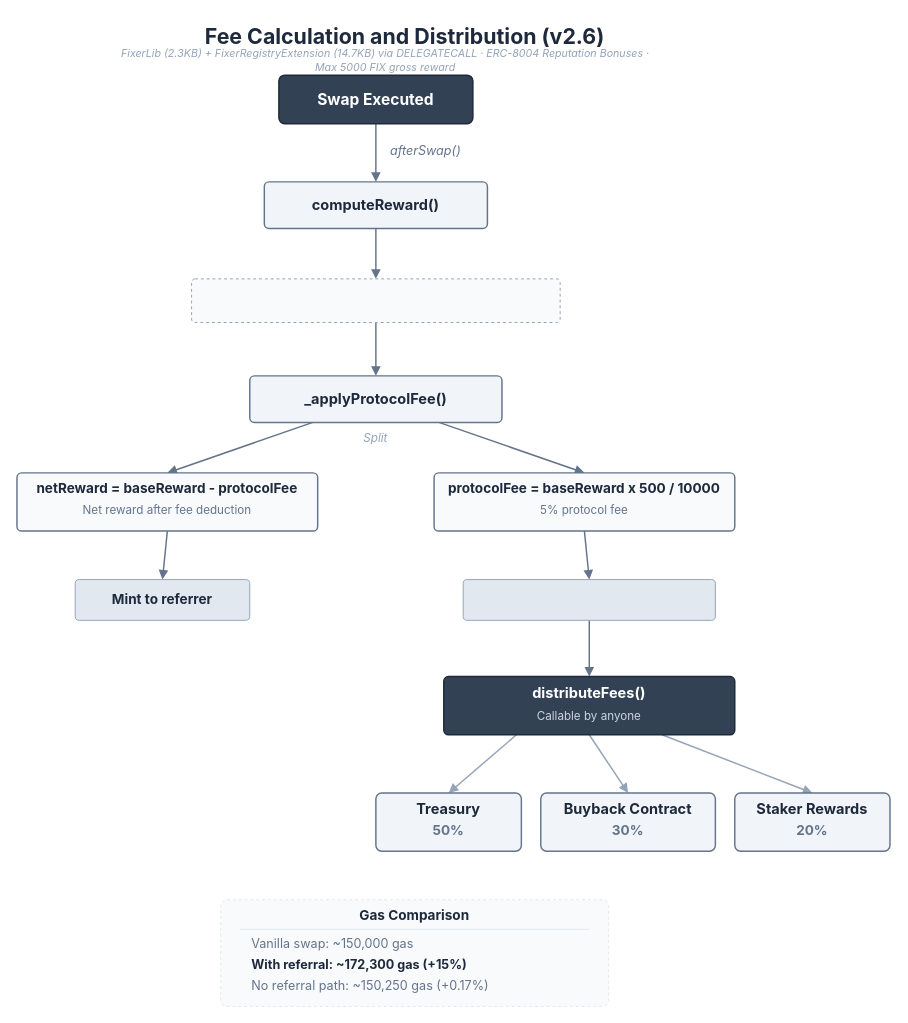
Image size: 908x1023. Some labels were removed from this diagram. Each missing label, with the centre of its shape:
"accumulatedFees += protocolFee" goes at pixel 588 599.
"baseReward = swapAmount x rewardRateBps / 10000" goes at pixel 375 300.
